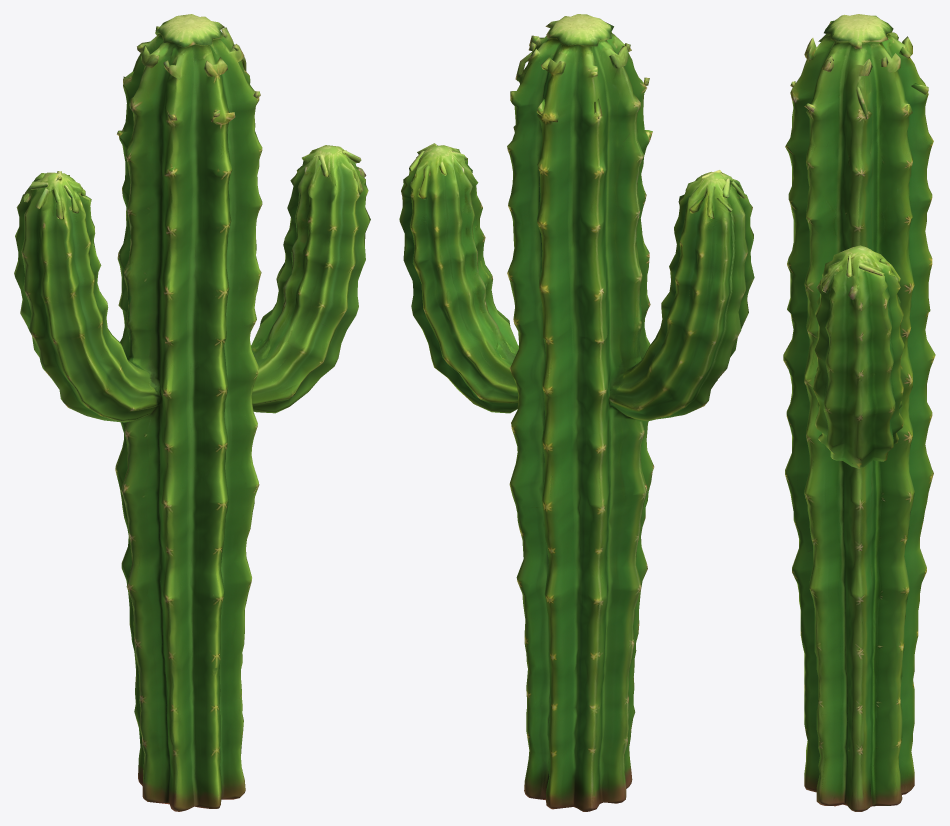
Rendered from cactus.glb.
3 renders of one model, left to right at view 1: azimuth 30°, elevation 25°; view 2: azimuth 150°, elevation 25°; view 3: azimuth 270°, elevation 25°, orthographic.
Visible parts, largest first — view 1: world; view 2: world; view 3: world.
Boxes of the visible parts, x1=… form: world: x1=14, y1=14, x2=370, y2=811; world: x1=399, y1=14, x2=754, y2=811; world: x1=783, y1=14, x2=935, y2=811.
Bounding box in the file's own units: 0.8767 × 1.91 × 0.3405.
1 material, 1 textured.
